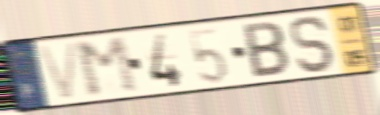4: (148, 32, 184, 90)
5: (186, 25, 230, 85)
B: (241, 19, 291, 81)
M: (72, 33, 142, 100)
S: (289, 14, 339, 75)
V: (34, 38, 81, 104)
